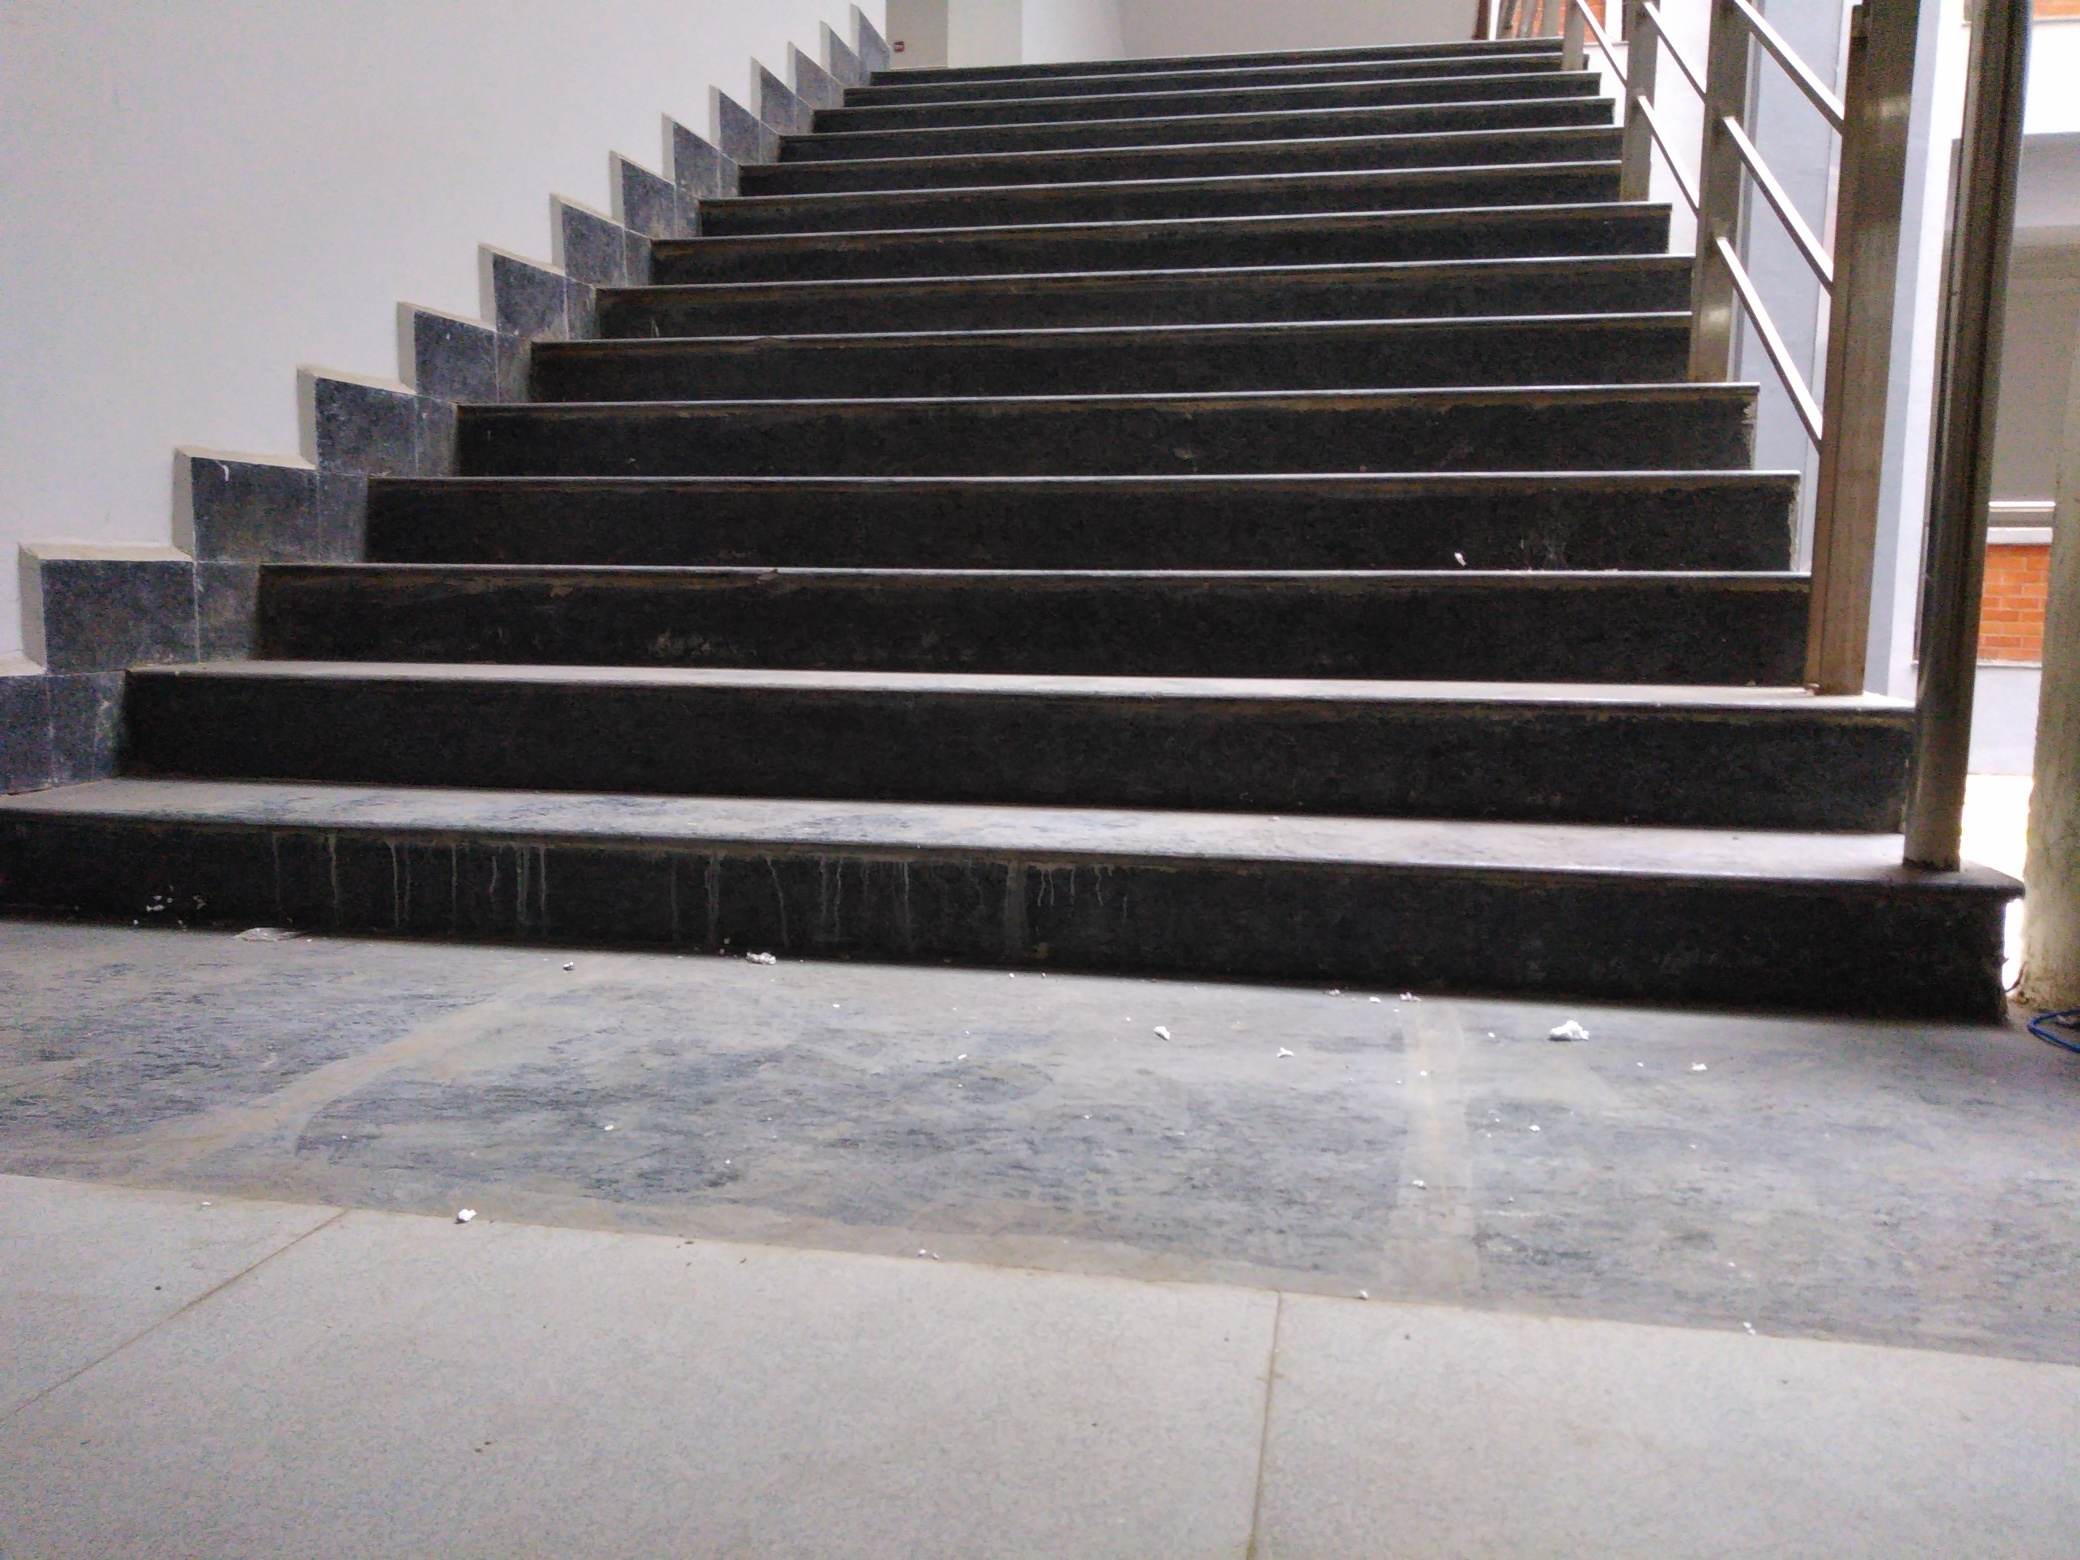stairs_up: (246, 21, 1816, 978)
